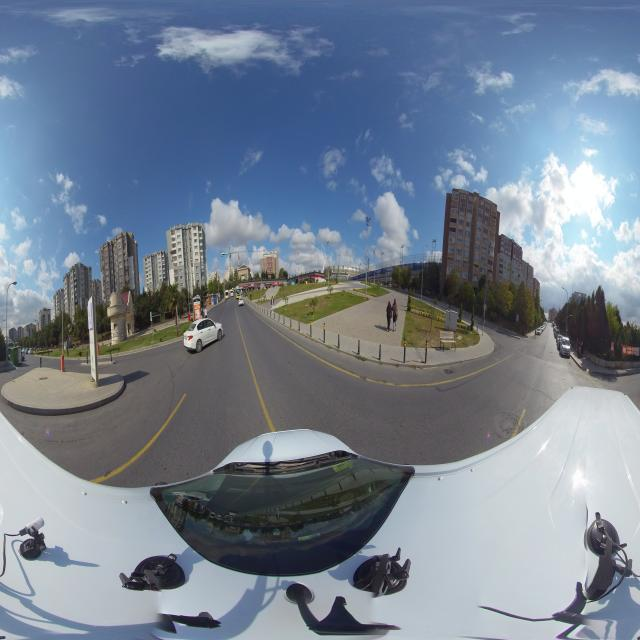SignStore: (263, 251, 277, 254), (244, 284, 248, 286), (240, 285, 243, 287), (251, 284, 254, 286)
